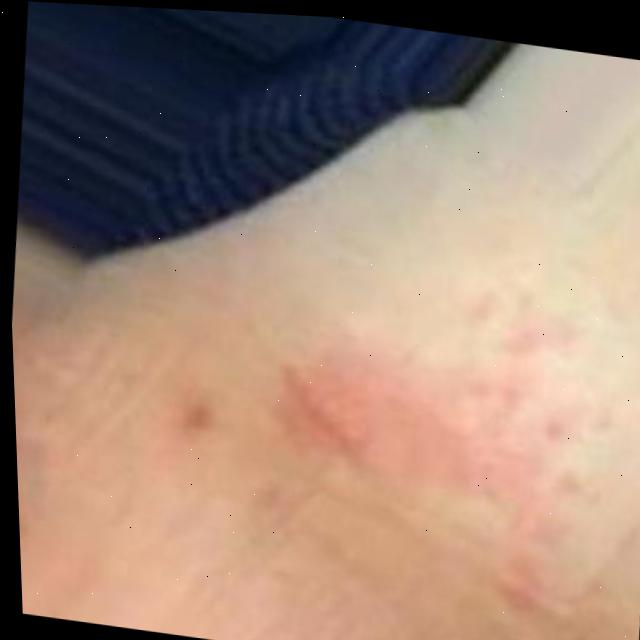Shingles: (262, 318, 576, 507)
